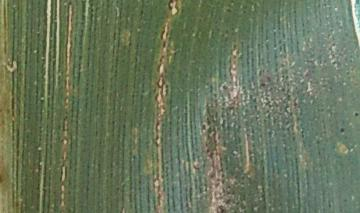tarspot: (336, 125, 348, 135), (351, 110, 360, 120)
